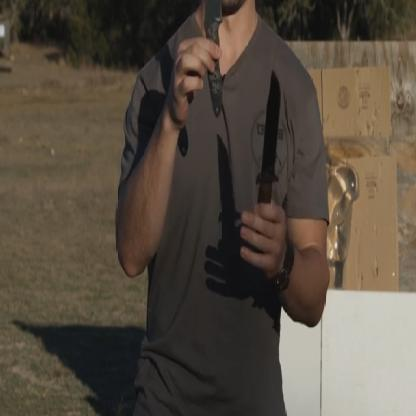knife: (232, 64, 283, 272), (192, 0, 226, 125)
